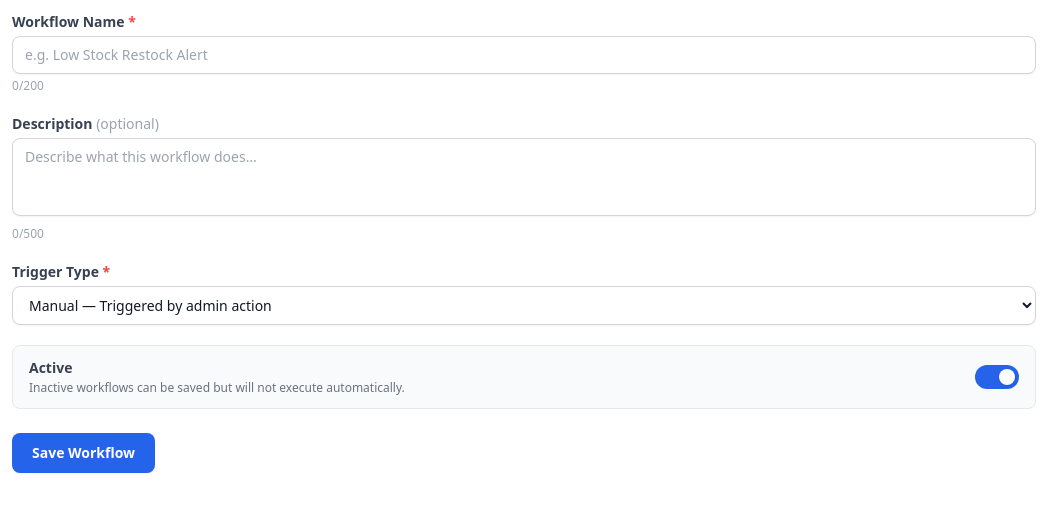
Test case: WorkflowForm › shows name required error when submitted empty
The image size is (1048, 510).
What coordinates should you click on to do the following:
click the button with test id "workflow-submit-btn"
I would click on:
 (84, 453)
Its box is top-left (12, 433), bottom-right (155, 473).
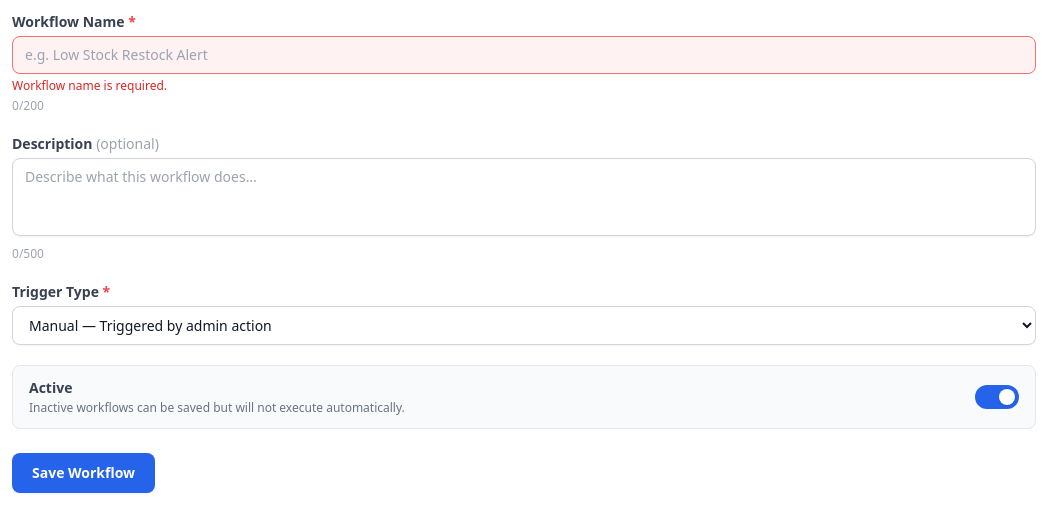
Expected: the text "Workflow name is required." is shown, top-left (12, 77), bottom-right (167, 94)
